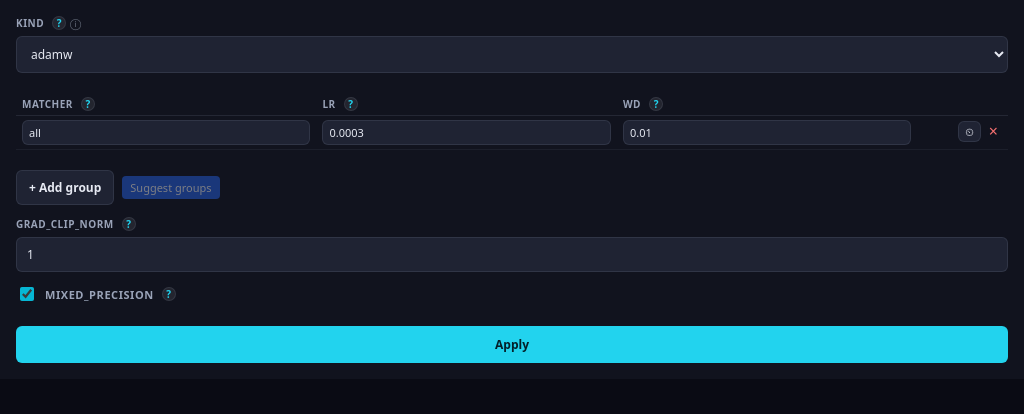
OptimTab › Remove group drops the row
This screenshot has width=1024, height=414.
Click the button with test id "optim-add-group" at (65, 188), box [16, 170, 114, 205]
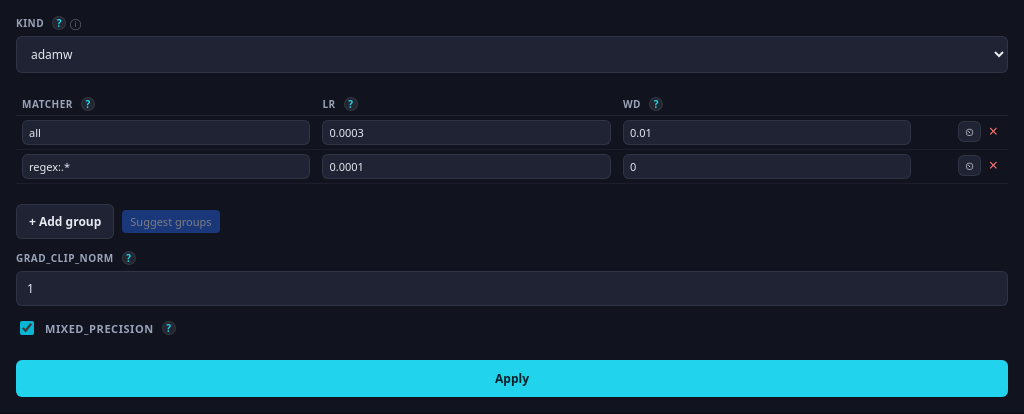
Click the button with test id "optim-group-1-remove" at (993, 165), box [985, 154, 1002, 176]
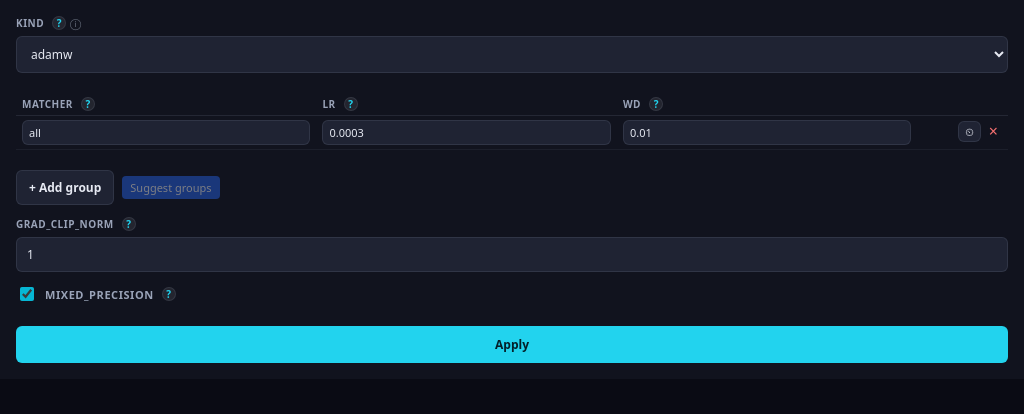
expect the row with test id "optim-group-1" is gone: met
